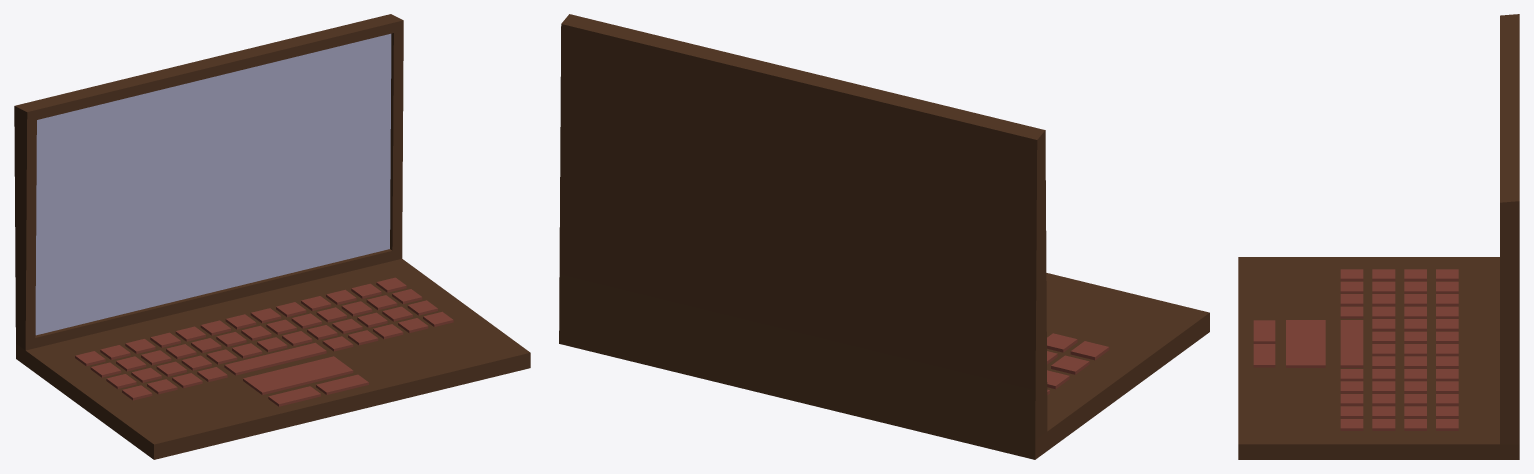
The model's file is laptop.glb.
3 renders of one model, left to right at view 1: azimuth 30°, elevation 25°; view 2: azimuth 150°, elevation 25°; view 3: azimuth 270°, elevation 25°, orthographic. The views are drawn at different scales.
Parts seen in each view (by area): view 1: Laptop; view 2: Laptop; view 3: Laptop.
Boxes of the visible parts, x1,y1,x2,y2 form: Laptop: (14,14,530,459); Laptop: (559,14,1209,459); Laptop: (1238,14,1519,459).
Size of the model in its own units: 0.6181 by 0.3941 by 0.3897.
Materials: 1 (1 with a texture image).
